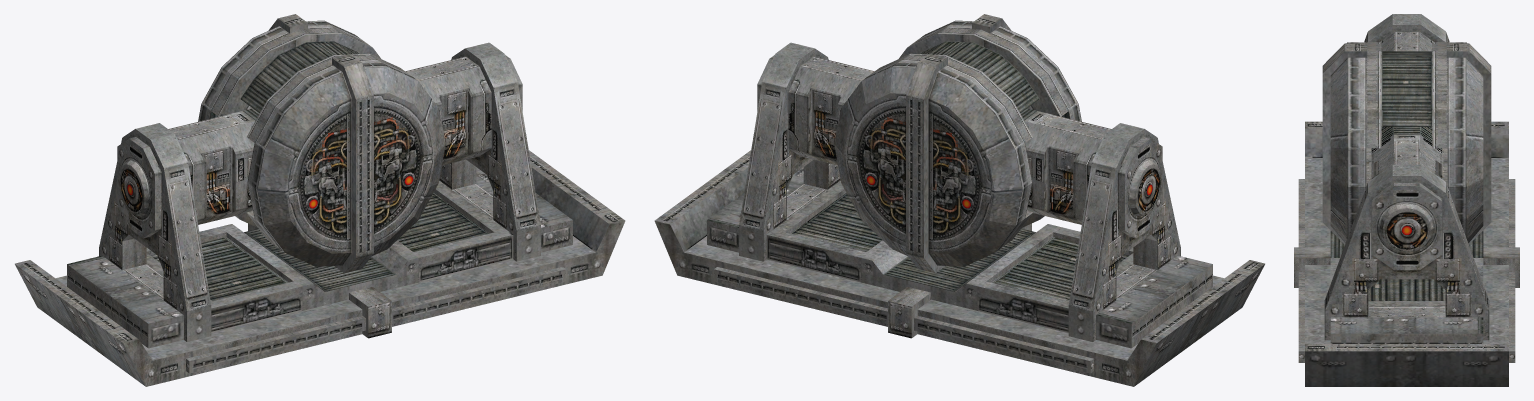
The model's file is bunker_mine_device_s01_l0.fbx.
The picture shows the model from 3 angles, left to right: view 1: azimuth 30°, elevation 25°; view 2: azimuth 150°, elevation 25°; view 3: azimuth 270°, elevation 25°; orthographic projection. The views are drawn at different scales.
Parts seen in each view (by area): view 1: mesh_node; view 2: mesh_node; view 3: mesh_node.
Boxes of the visible parts, <box> form: mesh_node: <box>15,14,625,386</box>; mesh_node: <box>654,14,1264,386</box>; mesh_node: <box>1294,14,1519,386</box>.
Bounding box in the file's own units: 6 × 2.86 × 2.49.
Materials: 2 (2 with a texture image).
